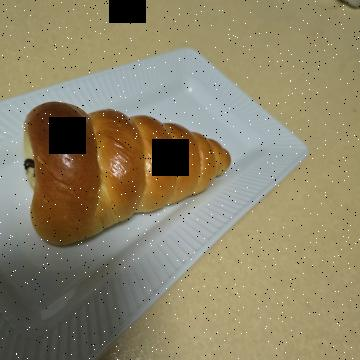cream horn: (87, 126, 261, 357)
